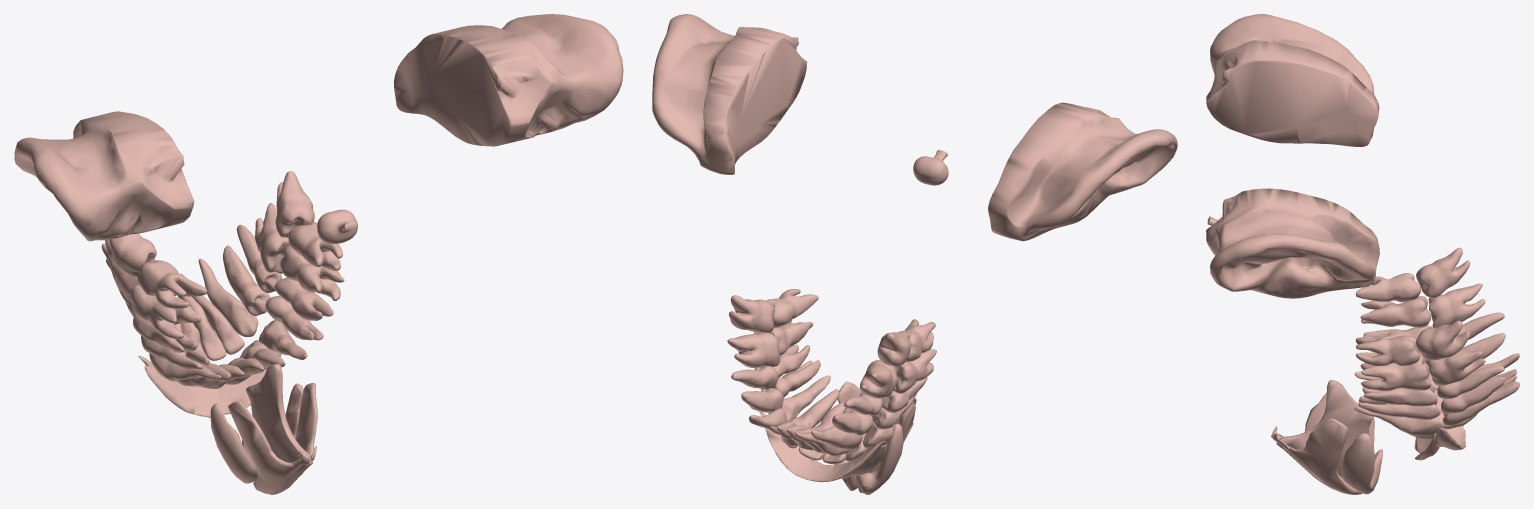
File: head__organs.ef89bb7581.glb
The picture shows the model from 3 angles, left to right: view 1: azimuth 30°, elevation 25°; view 2: azimuth 150°, elevation 25°; view 3: azimuth 270°, elevation 25°; orthographic projection. The views are drawn at different scales.
Visible parts, largest first — view 1: FMA52780, FMA71704, FMA59815nsn, FMA55697, FMA55698, FMA55703, FMA55699, FMA55687, FMA55700, FMA55693, FMA55706, FMA55704 (+11 smaller); view 2: FMA52780, FMA59815nsn, FMA71704, FMA55704, FMA55703, FMA55705, FMA55700, FMA55698, FMA13889, FMA55706, FMA55697, FMA55799 (+11 smaller); view 3: FMA52780, FMA71704, FMA55699, FMA55698, FMA55700, FMA55705, FMA55706, FMA55703, FMA55697, FMA55704, FMA55691, FMA59815nsn (+8 smaller).
Boxes of the visible parts, <box> form: FMA52780: <box>14,14,623,241</box>; FMA71704: <box>210,364,317,494</box>; FMA59815nsn: <box>138,350,281,417</box>; FMA55697: <box>137,260,207,308</box>; FMA55698: <box>130,285,201,338</box>; FMA55703: <box>275,171,314,237</box>; FMA55699: <box>280,245,344,300</box>; FMA55687: <box>198,258,258,337</box>; FMA55700: <box>288,222,342,270</box>; FMA55693: <box>223,245,270,315</box>; FMA55706: <box>105,233,156,277</box>; FMA55704: <box>255,203,289,273</box>; FMA52780: <box>652,14,1177,241</box>; FMA59815nsn: <box>759,411,886,482</box>; FMA71704: <box>821,381,916,494</box>; FMA55704: <box>727,332,780,367</box>; FMA55703: <box>729,295,774,332</box>; FMA55705: <box>860,360,897,398</box>; FMA55700: <box>766,289,818,327</box>; FMA55698: <box>893,349,936,393</box>; FMA13889: <box>913,150,948,185</box>; FMA55706: <box>877,332,911,366</box>; FMA55697: <box>898,319,935,361</box>; FMA55799: <box>768,375,830,421</box>; FMA52780: <box>1206,14,1379,298</box>; FMA71704: <box>1271,380,1382,494</box>; FMA55699: <box>1360,355,1431,390</box>; FMA55698: <box>1360,296,1431,327</box>; FMA55700: <box>1355,335,1420,365</box>; FMA55705: <box>1428,283,1485,327</box>; FMA55706: <box>1416,247,1469,297</box>; FMA55703: <box>1416,320,1469,360</box>; FMA55697: <box>1355,273,1420,302</box>; FMA55704: <box>1428,349,1485,385</box>; FMA55691: <box>1362,385,1437,406</box>; FMA59815nsn: <box>1414,425,1465,460</box>.
Size of the model in its own units: 181 by 134 by 103.
